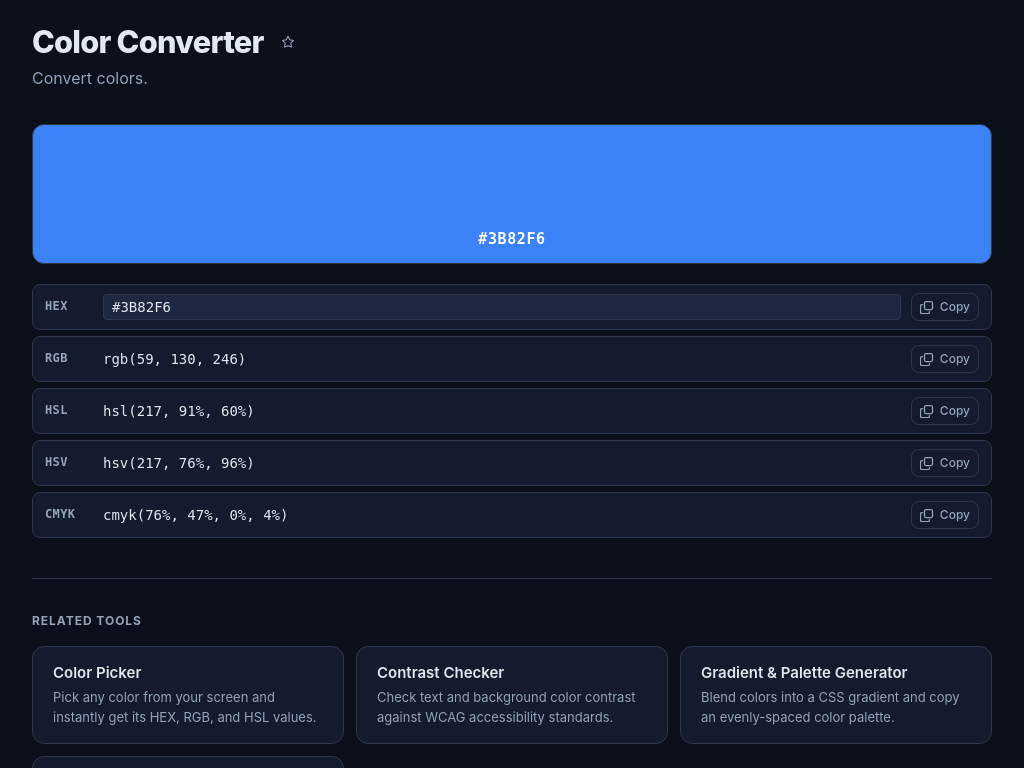
Scenario: ColorConverter › recomputes when a new hex is typed
This screenshot has width=1024, height=768.
Type "#FF0000" into the field named "Hex value" at point(502, 307), box top-left (103, 294), bottom-right (901, 320)
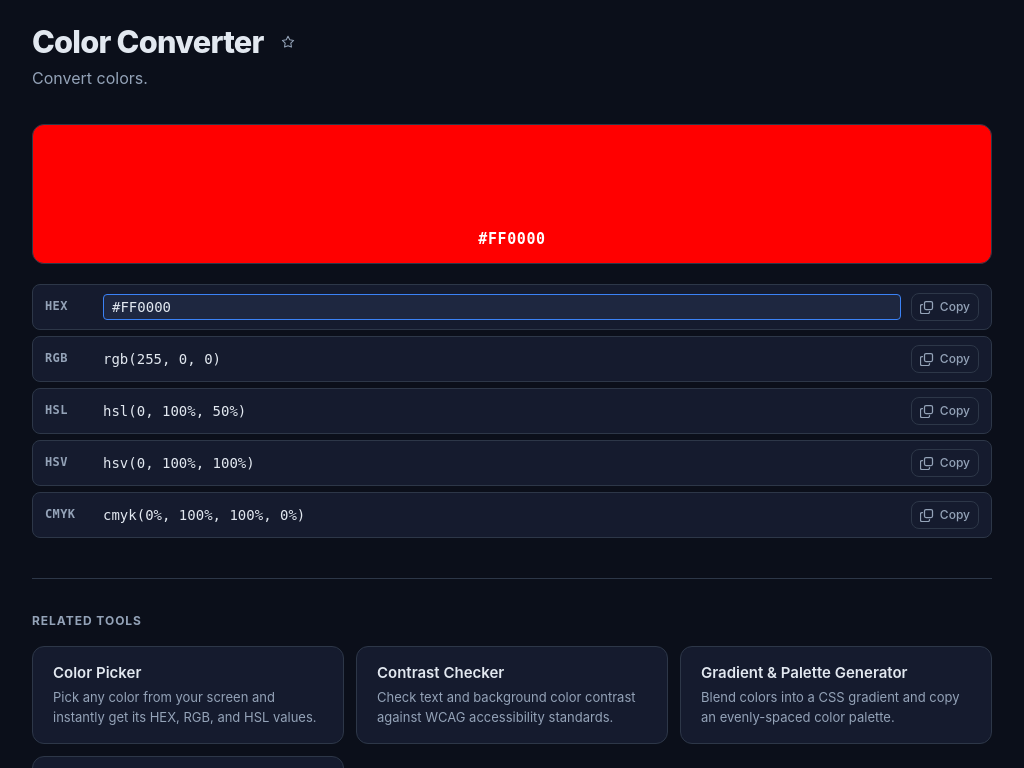
expect the text "rgb(255, 0, 0)" is shown: met, box top-left (103, 350), bottom-right (221, 366)
